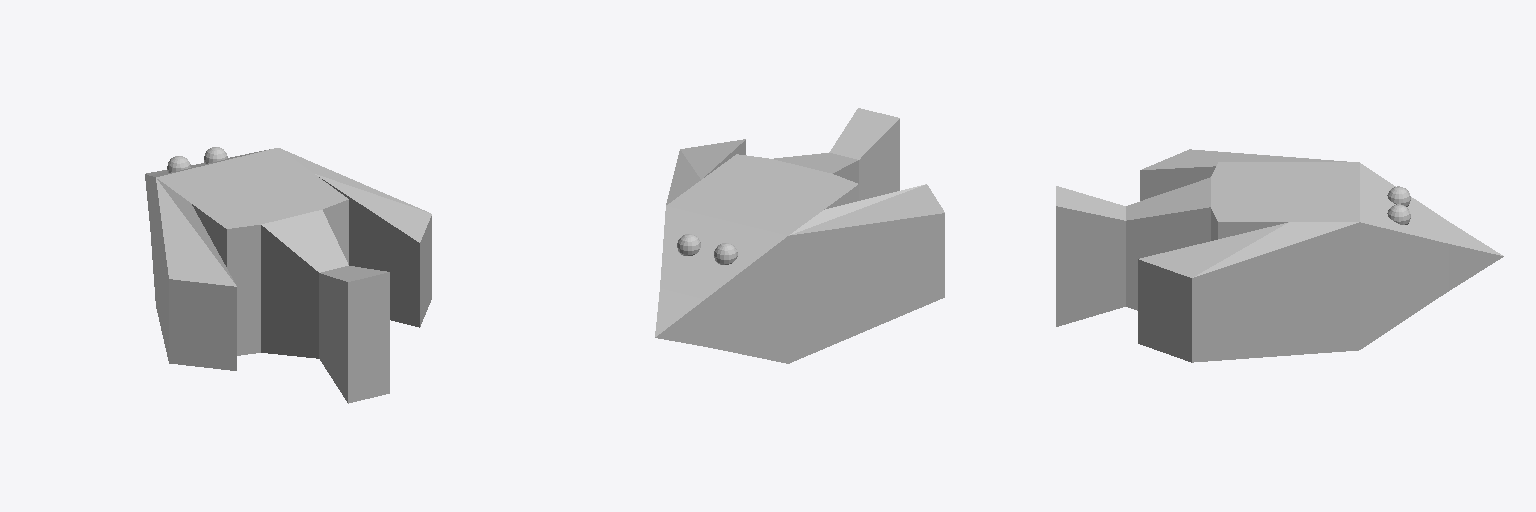
The model's file is generic_object_swimmer.obj.
The picture shows the model from 3 angles: view 1: azimuth 30°, elevation 25°; view 2: azimuth 150°, elevation 25°; view 3: azimuth 270°, elevation 25°; orthographic projection.
Parts seen in each view (by area): view 1: Cube, Sphere.001_Sphere.002; view 2: Cube, tip_Cube.001, Sphere.001_Sphere.002; view 3: Cube, tip_Cube.001, Sphere.001_Sphere.002.
Part boxes in pixels (x1,y1,x2,y2): Cube: (150,148,431,403); Sphere.001_Sphere.002: (167,147,227,172); Cube: (660,108,944,363); tip_Cube.001: (655,289,704,346); Sphere.001_Sphere.002: (677,234,737,264); Cube: (1056,149,1448,362); tip_Cube.001: (1449,222,1503,290); Sphere.001_Sphere.002: (1387,186,1410,224).
Size of the model in its own units: 4.31 by 2 by 6.34.